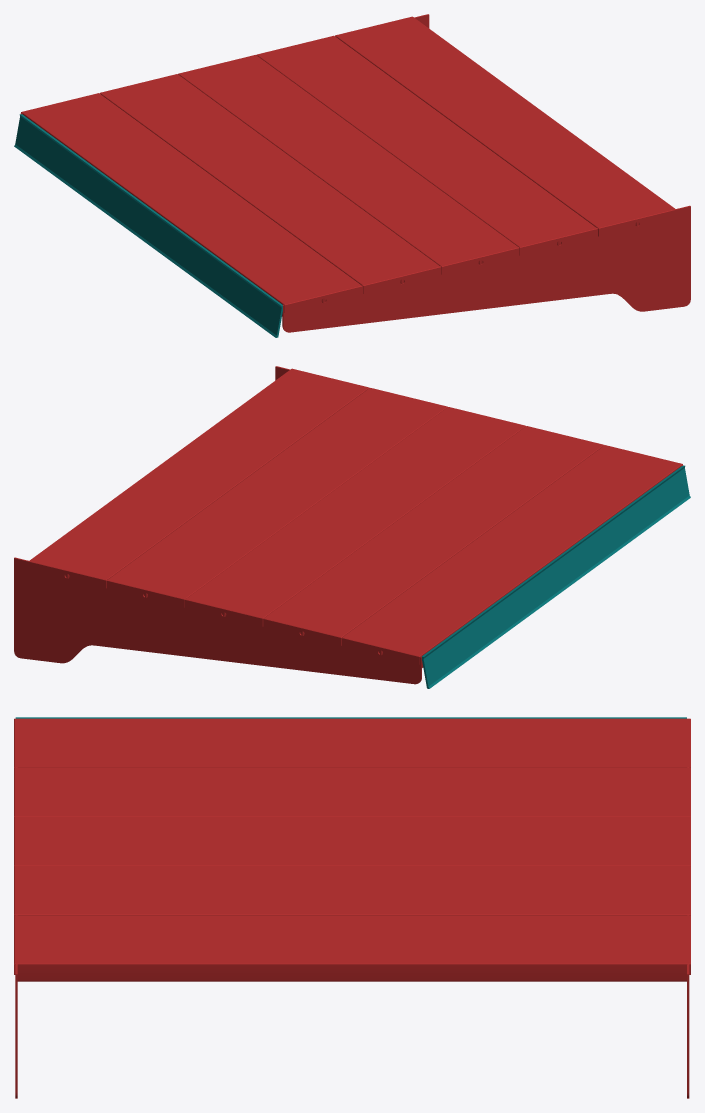
Rendered from SM_Shelves_Part_02.fbx.
3 renders of one model, top to bottom at view 1: azimuth 30°, elevation 25°; view 2: azimuth 150°, elevation 25°; view 3: azimuth 270°, elevation 25°, orthographic. The views are drawn at different scales.
Parts seen in each view (by area): view 1: SM_Shelves_Part_02; view 2: SM_Shelves_Part_02; view 3: SM_Shelves_Part_02.
Part boxes in pixels (x1,y1,x2,y2): SM_Shelves_Part_02: (14, 14, 690, 337); SM_Shelves_Part_02: (14, 366, 690, 688); SM_Shelves_Part_02: (14, 717, 690, 1098).
Bounding box in the file's own units: 55.92 × 12.83 × 61.52.
